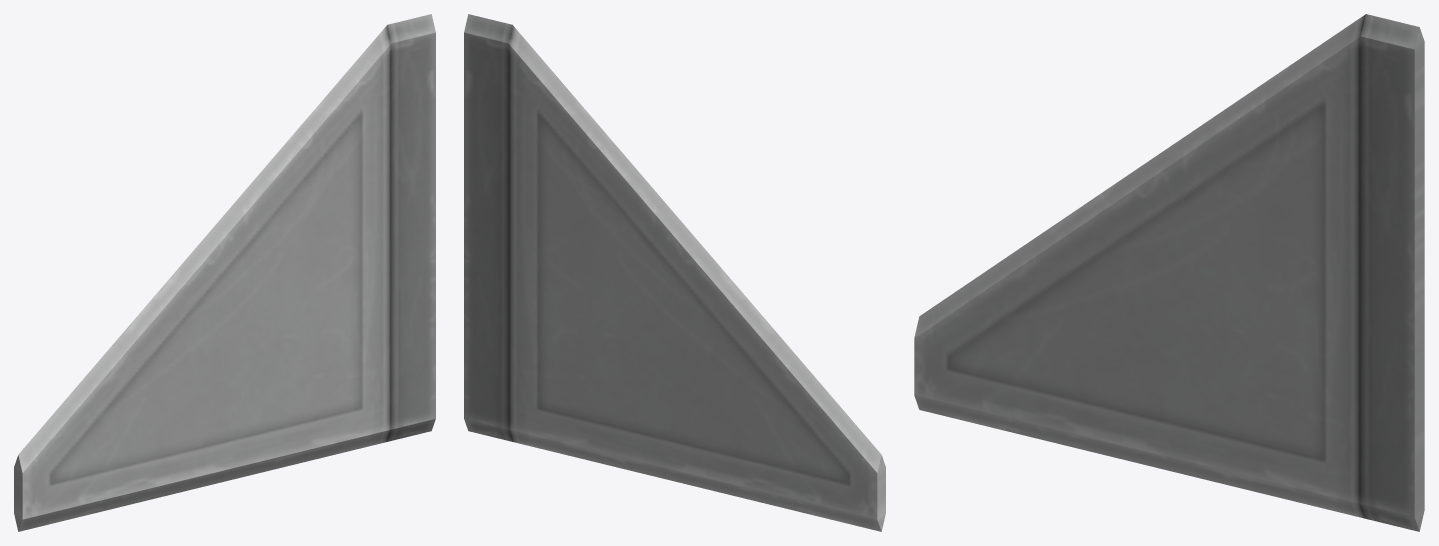
The model's file is canopus_basic_fin_srf_2.obj.
The picture shows the model from 3 angles, left to right: view 1: azimuth 30°, elevation 25°; view 2: azimuth 150°, elevation 25°; view 3: azimuth 330°, elevation 25°; orthographic projection. The views are drawn at different scales.
Visible parts, largest first — view 1: canopus_basic_fin_srf_2; view 2: canopus_basic_fin_srf_2; view 3: canopus_basic_fin_srf_2.
Boxes of the visible parts, box(x1,y1,x2,y2) form: canopus_basic_fin_srf_2: box(14, 14, 435, 531); canopus_basic_fin_srf_2: box(464, 14, 885, 531); canopus_basic_fin_srf_2: box(914, 14, 1424, 531).
Size of the model in its own units: 0.7 by 0.675 by 0.025.
